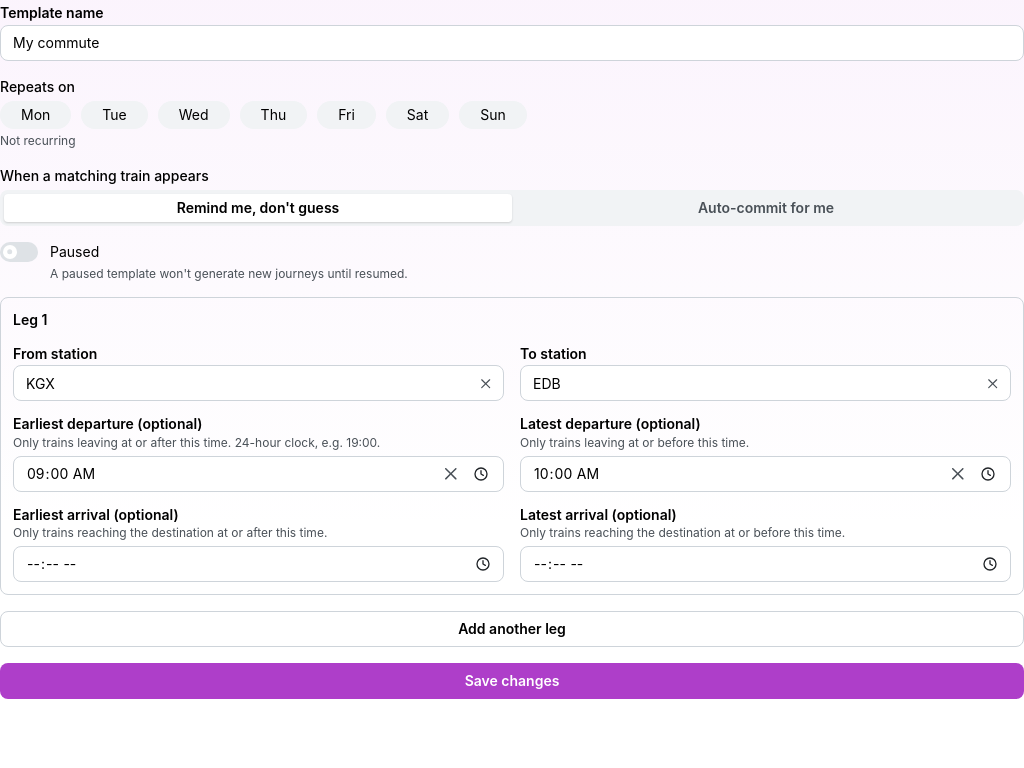
it: EditJourneyTemplateForm › disables Save when any leg is missing an origin or destination
The width and height of the screenshot is (1024, 768).
Click the button "Add another leg": (512, 629) [0,611,1023,647]
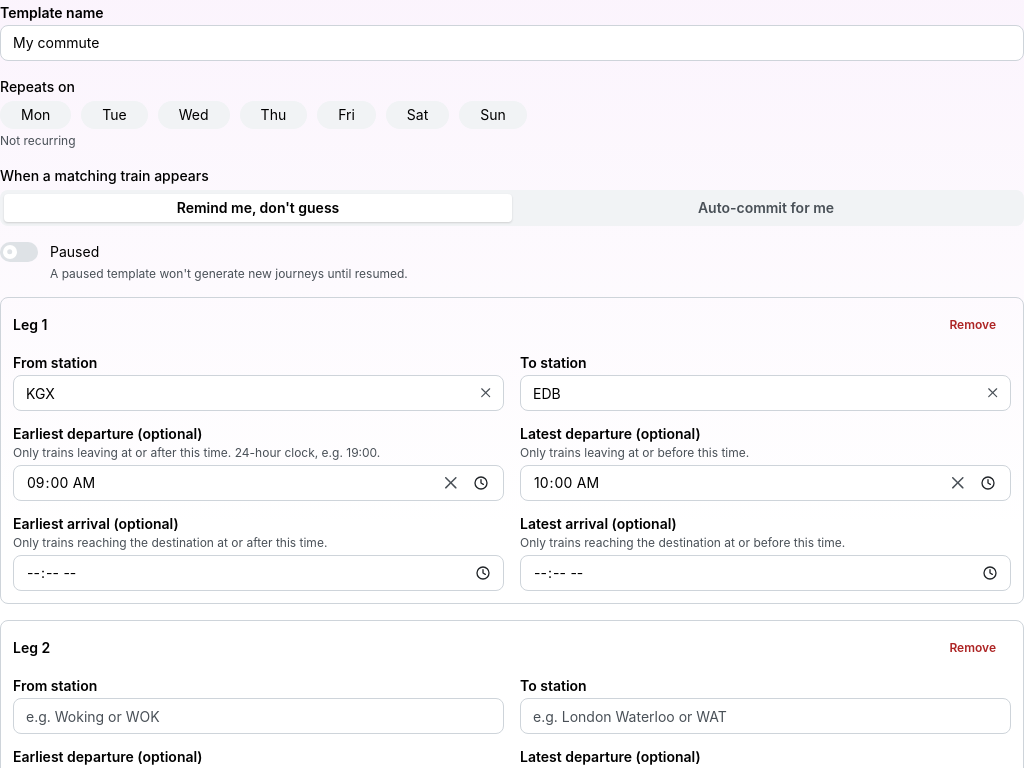
In the 2nd dropdown labelled "From station": (258, 716) [13,698,504,734], type "YRK"
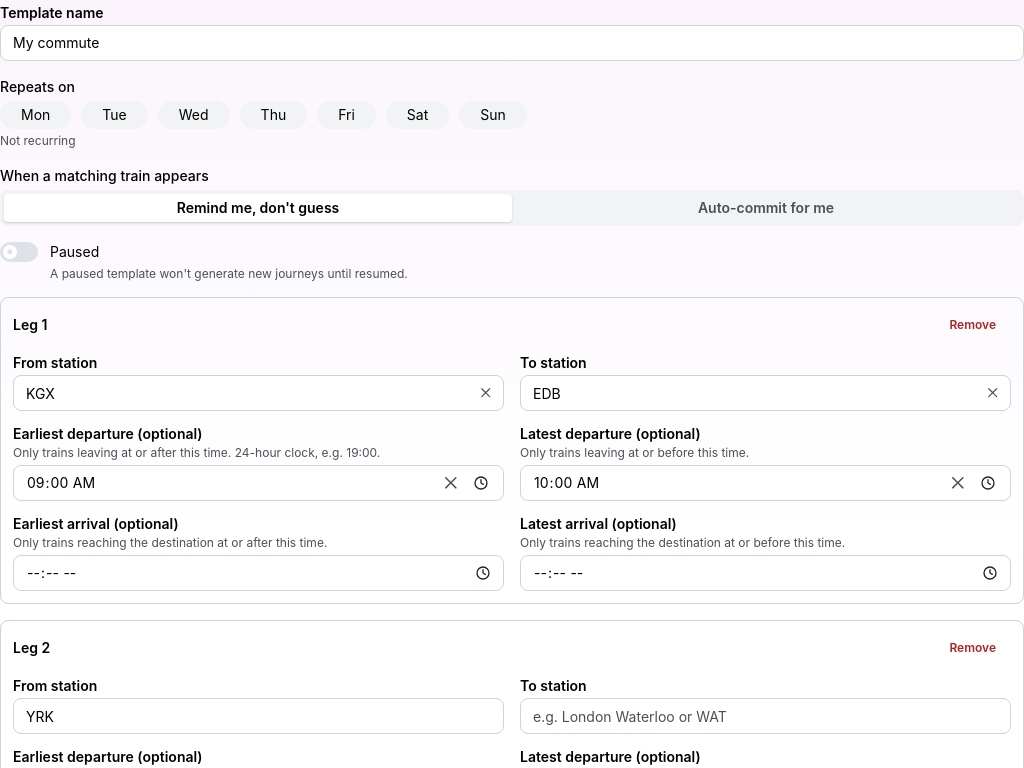
In the 2nd dropdown labelled "To station": (766, 716) [520,698,1011,734], type "NCL"
(page scrolled)
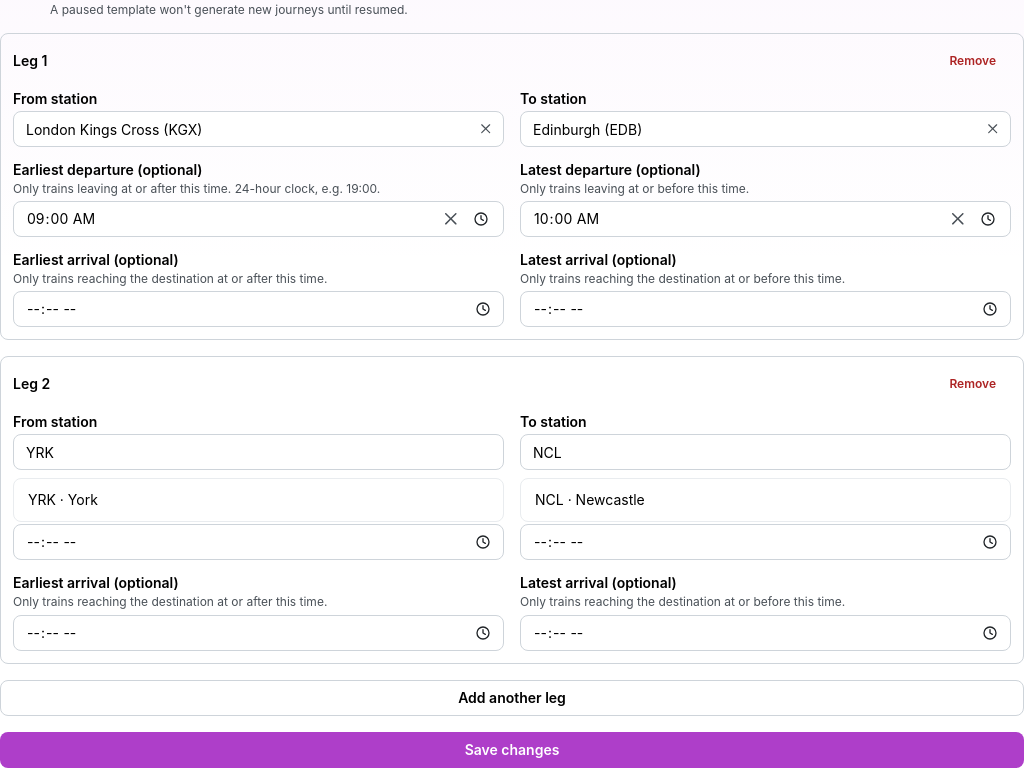
Now the button "Save changes" is enabled, box [0,732,1023,767]
